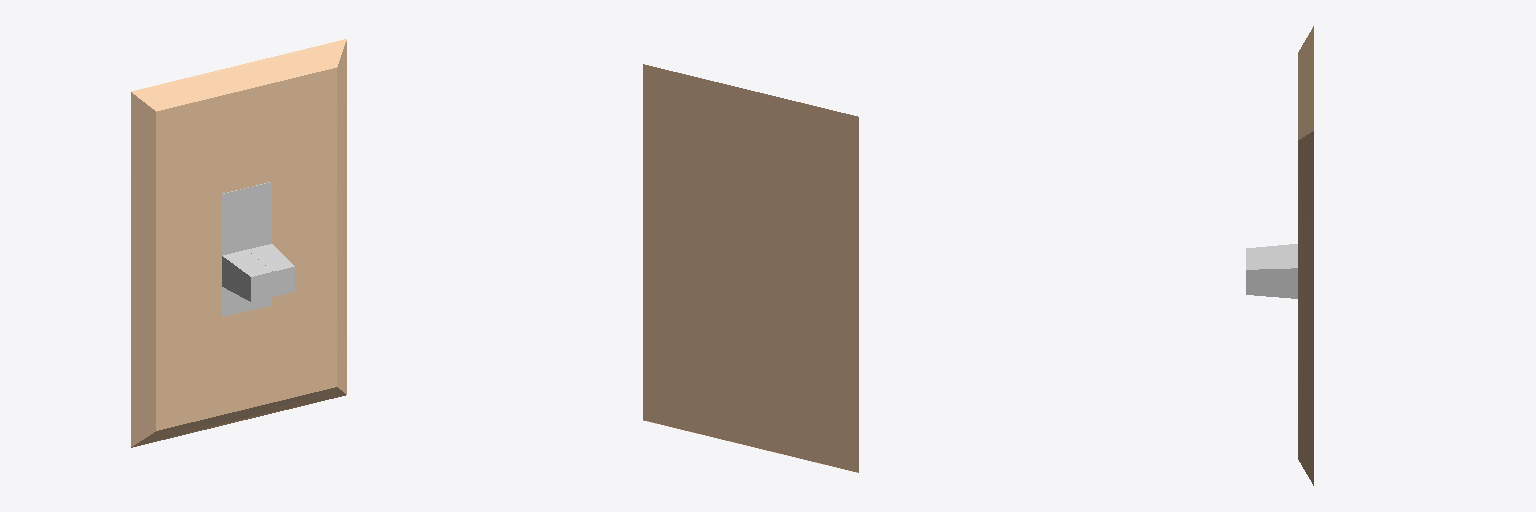
The model's file is lightSwitch.obj.
3 renders of one model, left to right at view 1: azimuth 30°, elevation 25°; view 2: azimuth 150°, elevation 25°; view 3: azimuth 270°, elevation 25°, orthographic.
Visible parts, largest first — view 1: FacePlate_flwhite, Switch_black; view 2: Plane; view 3: FacePlate_flwhite, Switch_black.
Boxes of the visible parts, <box> form: FacePlate_flwhite: <box>131,39,346,447</box>; Switch_black: <box>222,182,294,316</box>; Plane: <box>643,64,858,472</box>; FacePlate_flwhite: <box>1298,26,1313,485</box>; Switch_black: <box>1246,244,1297,298</box>.
Bounding box in the file's own units: 2.79 × 4.39 × 0.769.